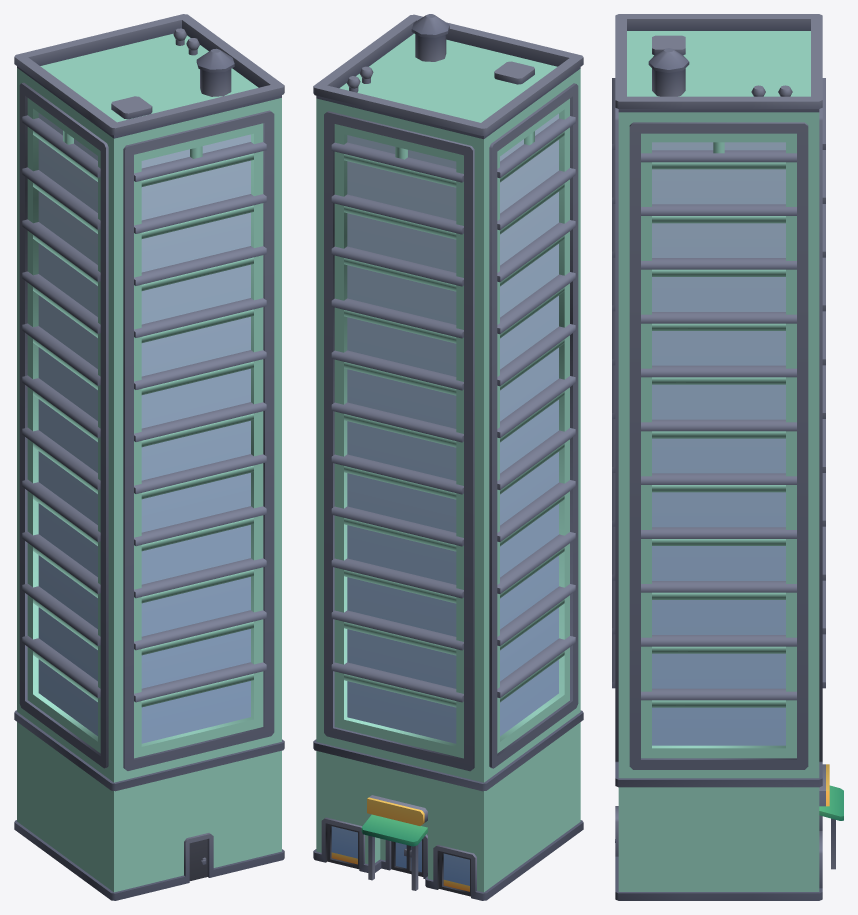
The model's file is skyscraperD1.glb.
3 renders of one model, left to right at view 1: azimuth 30°, elevation 25°; view 2: azimuth 150°, elevation 25°; view 3: azimuth 270°, elevation 25°, orthographic. The views are drawn at different scales.
Parts seen in each view (by area): view 1: skyscraperD1; view 2: skyscraperD1; view 3: skyscraperD1.
Boxes of the visible parts, <box> form: skyscraperD1: <box>14,14,284,900</box>; skyscraperD1: <box>313,14,583,900</box>; skyscraperD1: <box>612,14,843,900</box>.
Size of the model in its own units: 1.28 by 5.47 by 1.39.
2 materials, 1 textured.
